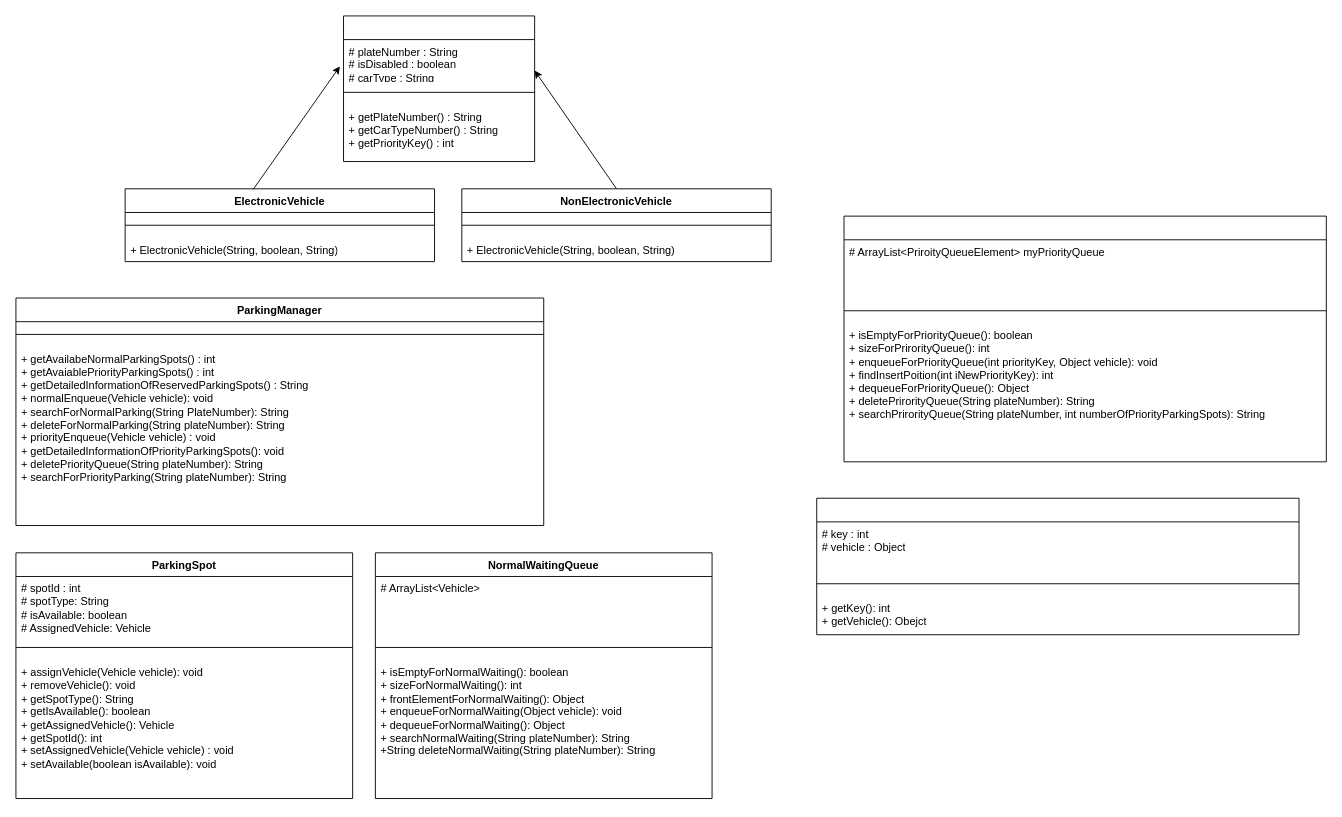
This 1342x817 diagram has some shape labels left out. Each missing label, with the box of its shape:
PriorityParkingQueue: (843, 215, 1326, 462)
PriroityQueueElement: (816, 497, 1299, 635)
Vehicle: (343, 15, 535, 162)
